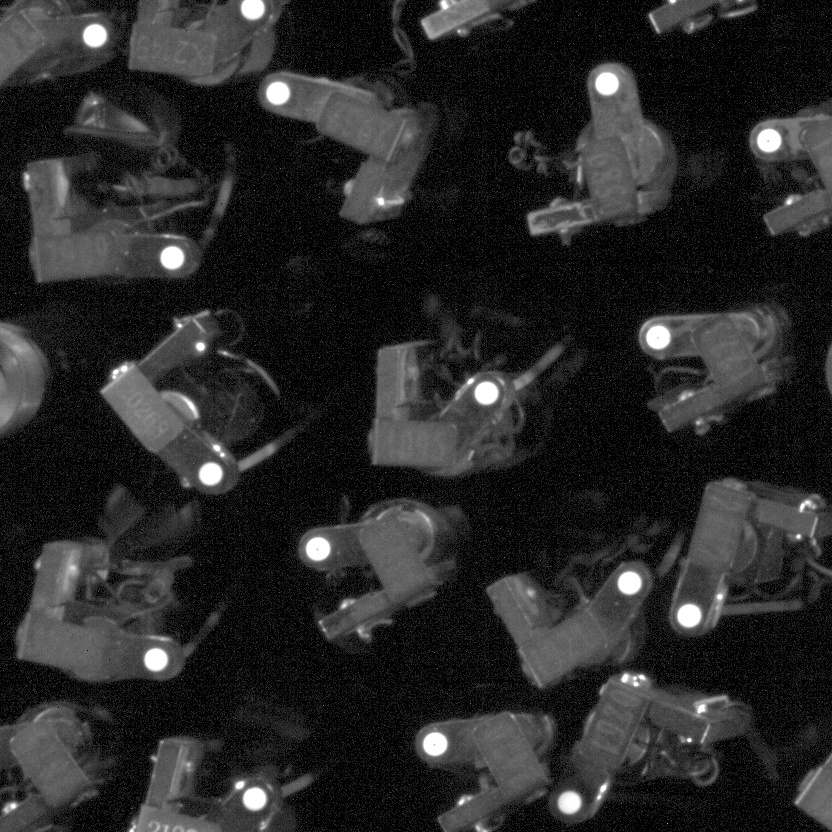collision: (514, 754, 574, 814)
